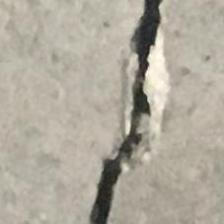Crack: (76, 0, 197, 224)
